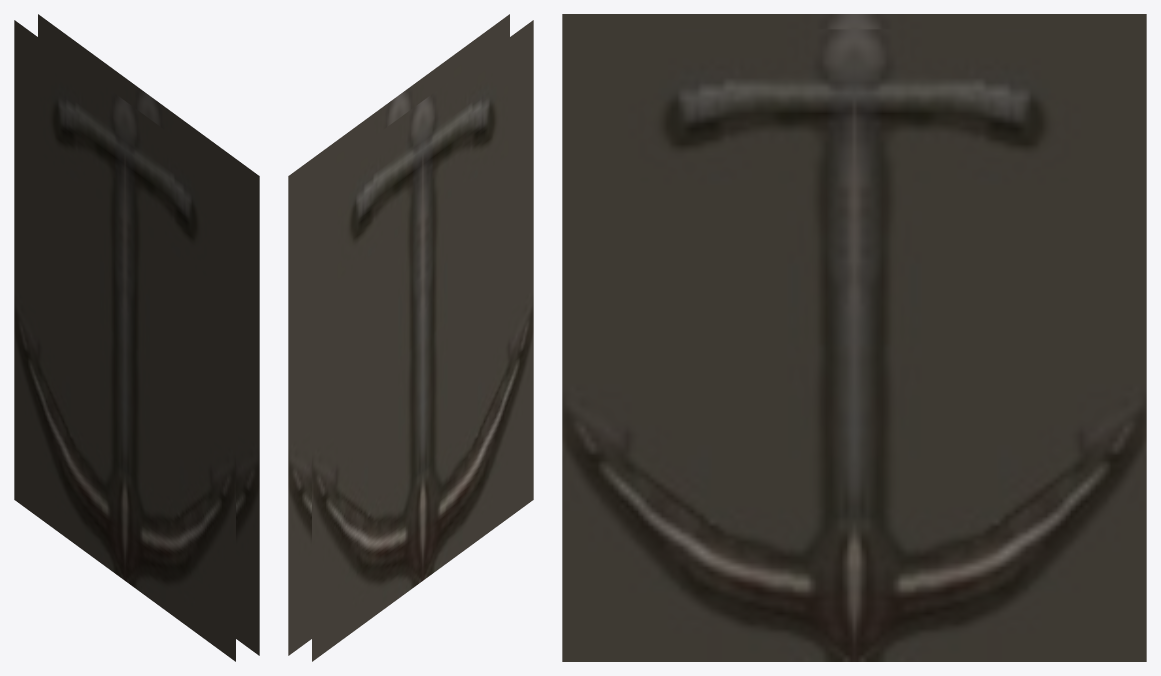
File: sign1_shanty_a_icon_shipwright.fbx
The picture shows the model from 3 angles, left to right: view 1: azimuth 30°, elevation 25°; view 2: azimuth 150°, elevation 25°; view 3: azimuth 270°, elevation 25°; orthographic projection. The views are drawn at different scales.
Parts seen in each view (by area): view 1: icons; view 2: icons; view 3: icons.
Boxes of the visible parts, box(x1,y1,x2,y2) form: icons: box(14, 14, 259, 661); icons: box(288, 14, 533, 661); icons: box(562, 14, 1146, 661).
Size of the model in its own units: 16.67 by 321 by 269.
1 material, 1 textured.
